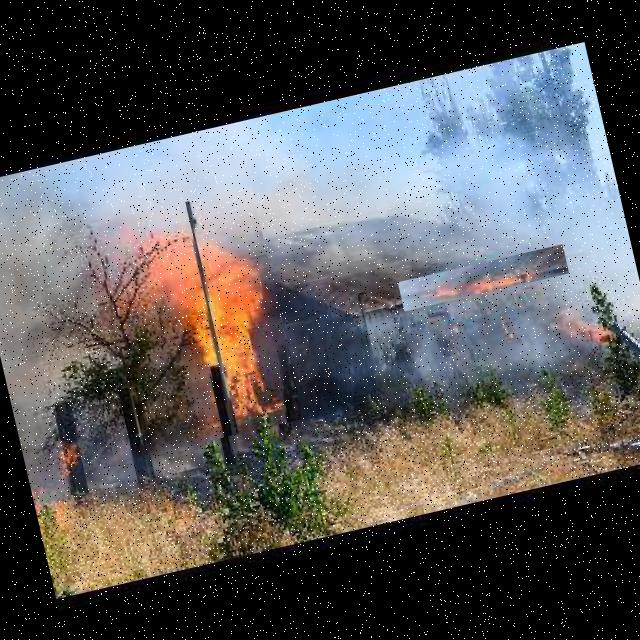fire: (80, 187, 304, 458), (398, 243, 568, 310), (548, 301, 626, 374)
